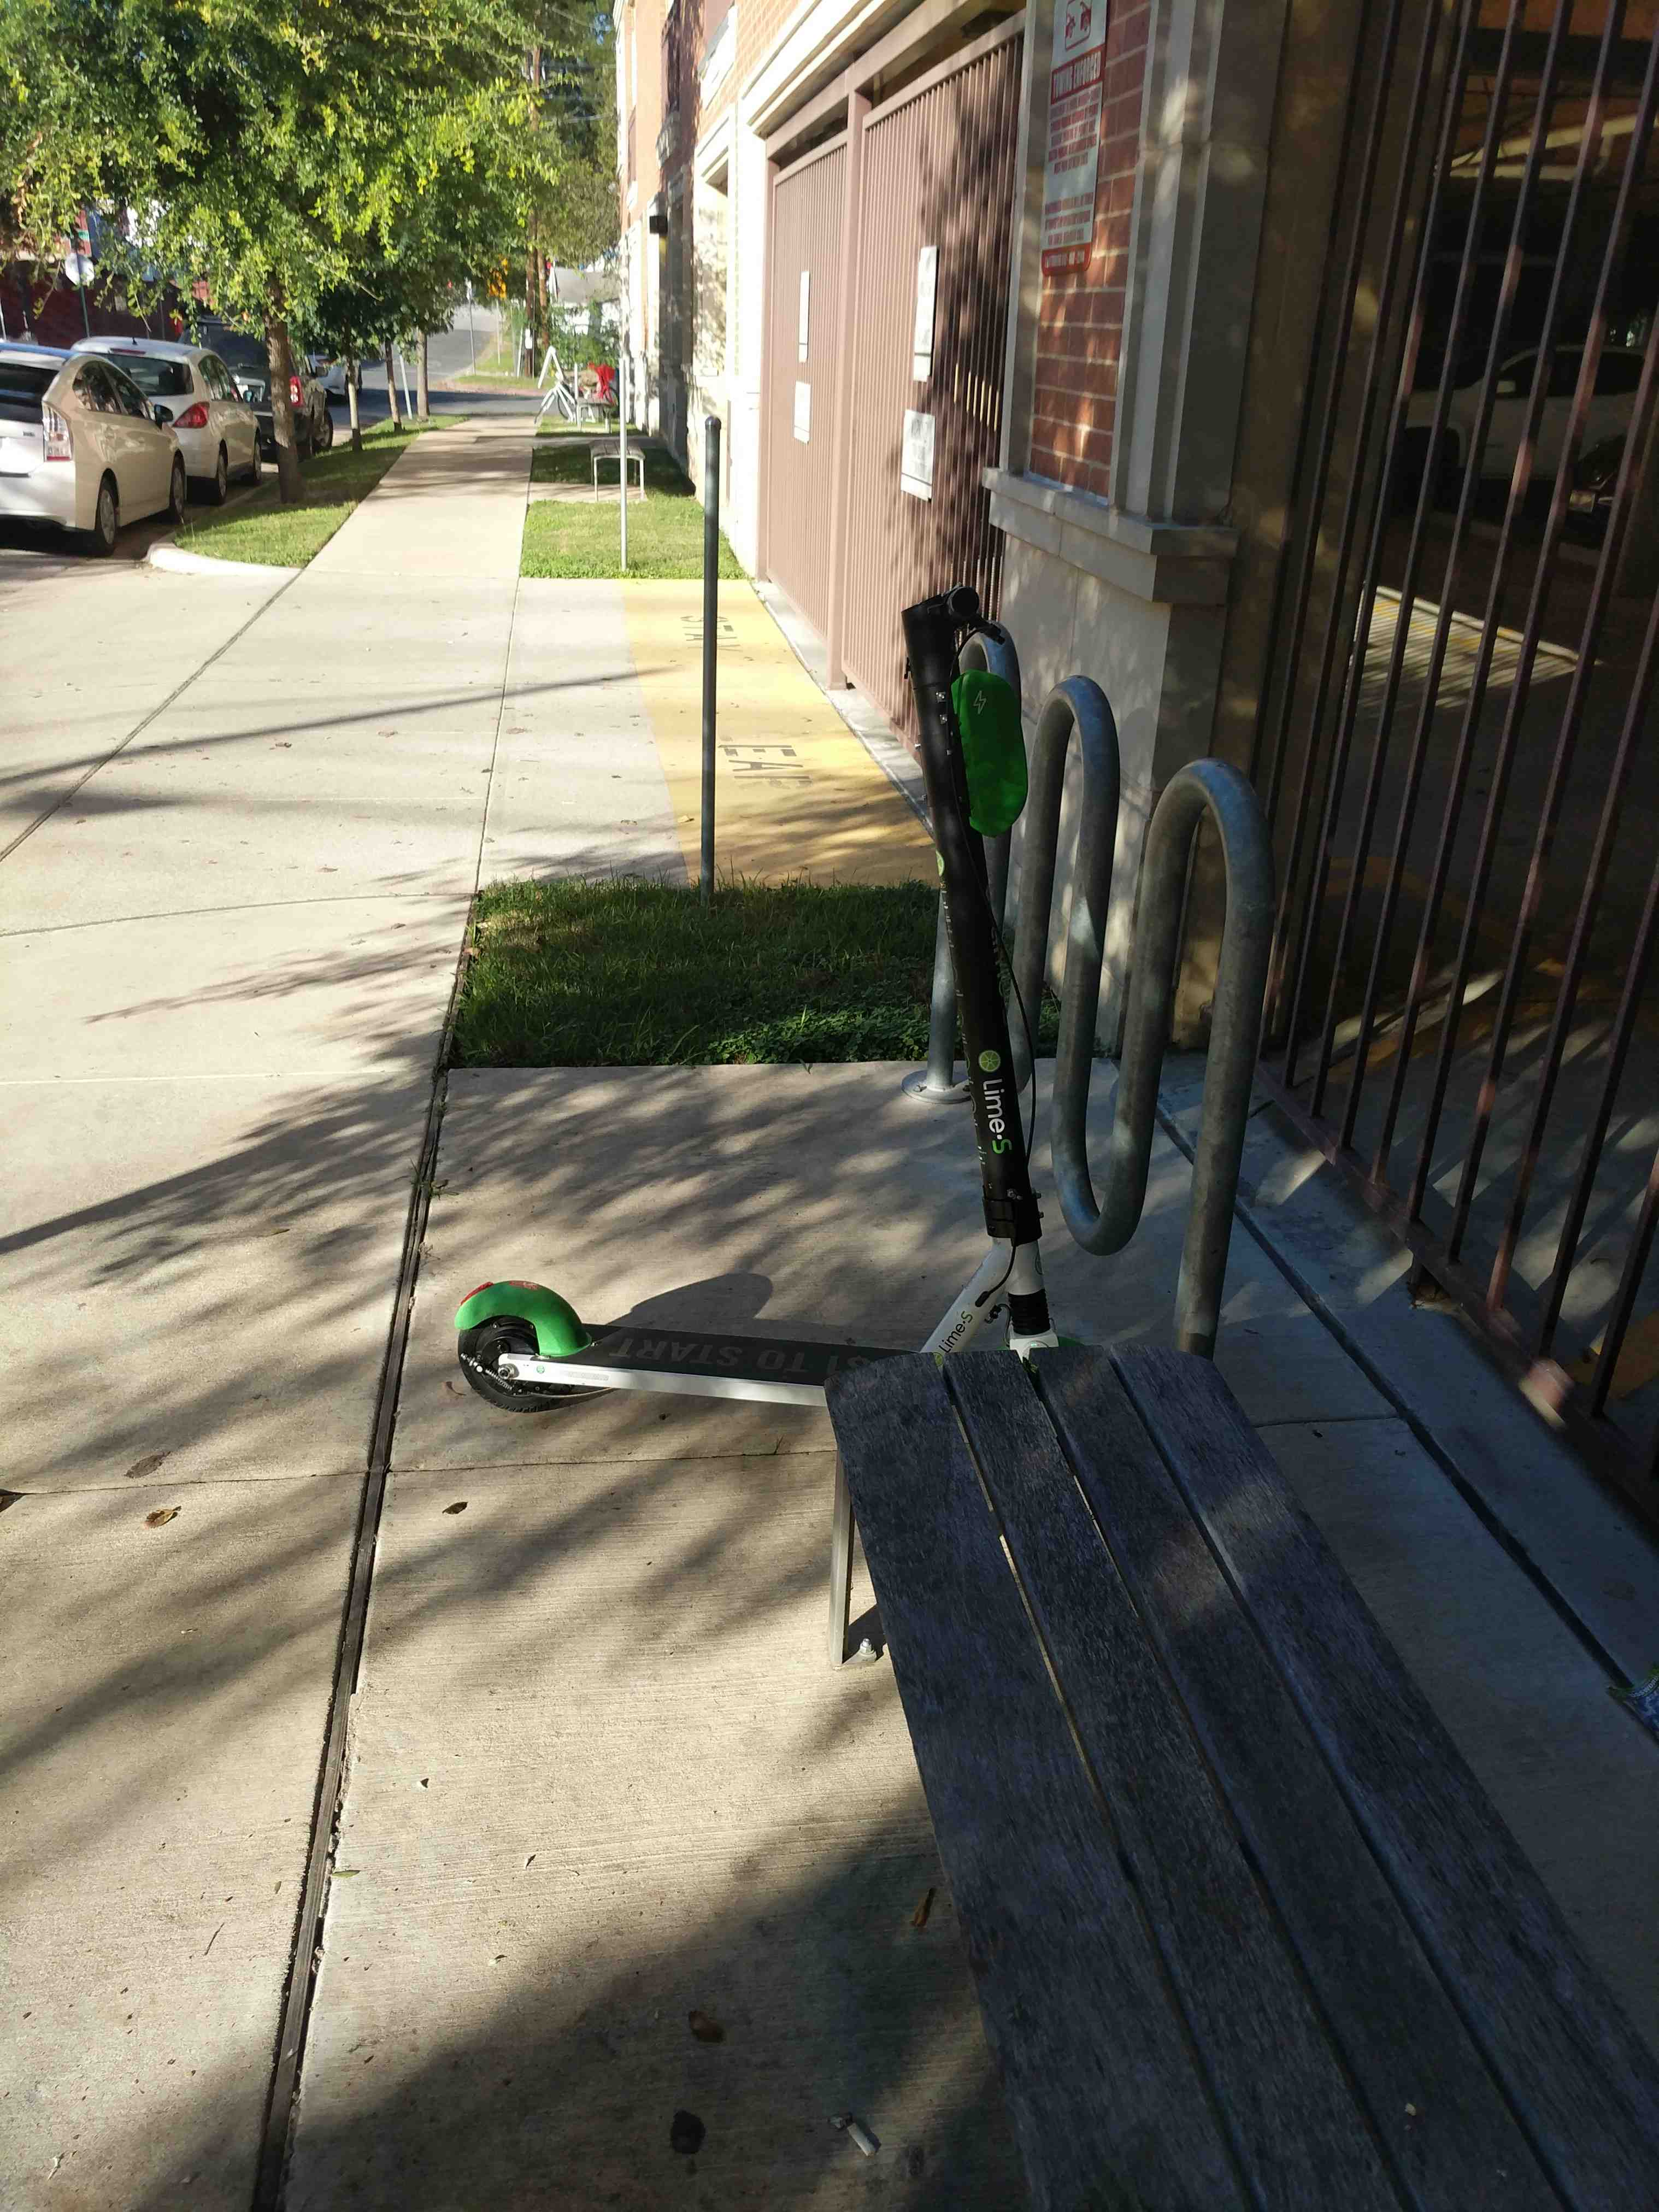scooter: (423, 465, 1155, 1629)
